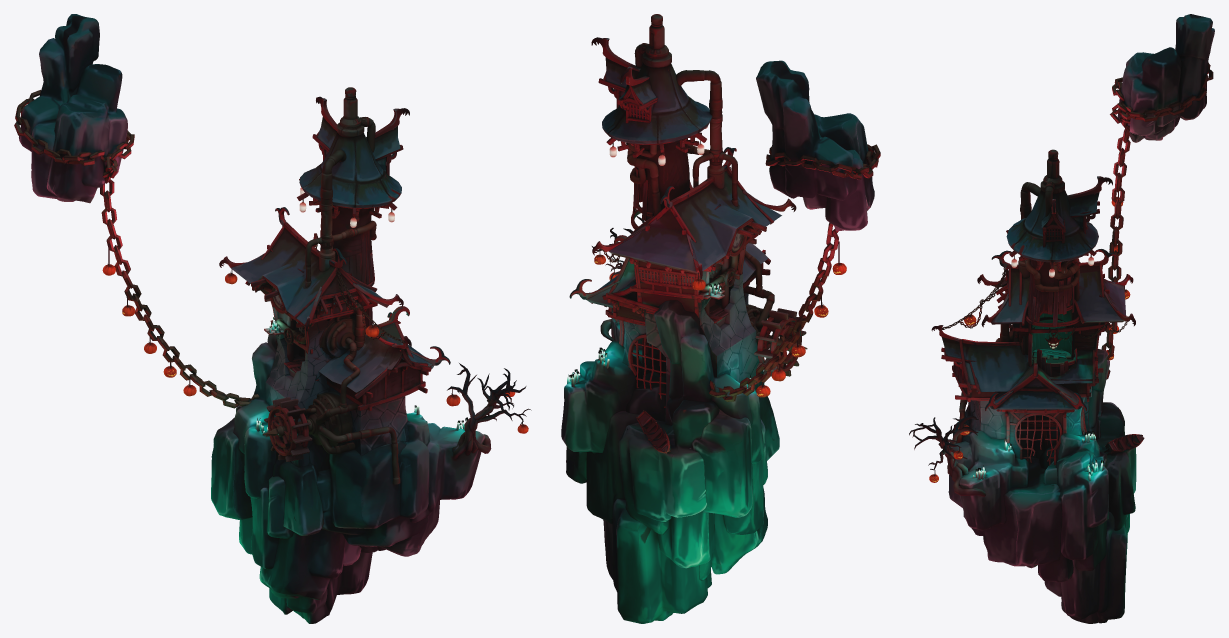
The picture shows the model from 3 angles, left to right: view 1: azimuth 30°, elevation 25°; view 2: azimuth 150°, elevation 25°; view 3: azimuth 270°, elevation 25°; orthographic projection. The views are drawn at different scales.
Parts seen in each view (by area): view 1: Cube.003, Cube.006, Cube.006_house_0.001, Cube.002; view 2: Cube.003, Cube.006, Cube.006_house_0.001, Cube.002; view 3: Cube.003, Cube.006, Cube.006_house_0.001, Cube.002.
Part boxes in pixels (<box>): Cube.003: <box>19,14,531,623</box>; Cube.006: <box>14,87,522,484</box>; Cube.006_house_0.001: <box>219,88,464,461</box>; Cube.002: <box>102,187,528,433</box>; Cube.003: <box>561,60,874,623</box>; Cube.006: <box>567,14,880,453</box>; Cube.006_house_0.001: <box>570,15,806,407</box>; Cube.002: <box>568,126,846,397</box>; Cube.003: <box>909,14,1214,623</box>; Cube.006: <box>931,62,1213,480</box>; Cube.006_house_0.001: <box>946,151,1135,479</box>; Cube.002: <box>929,196,1130,482</box>.
Bounding box in the file's own units: 24.33 × 36.53 × 19.13.
3 materials, 3 textured.
